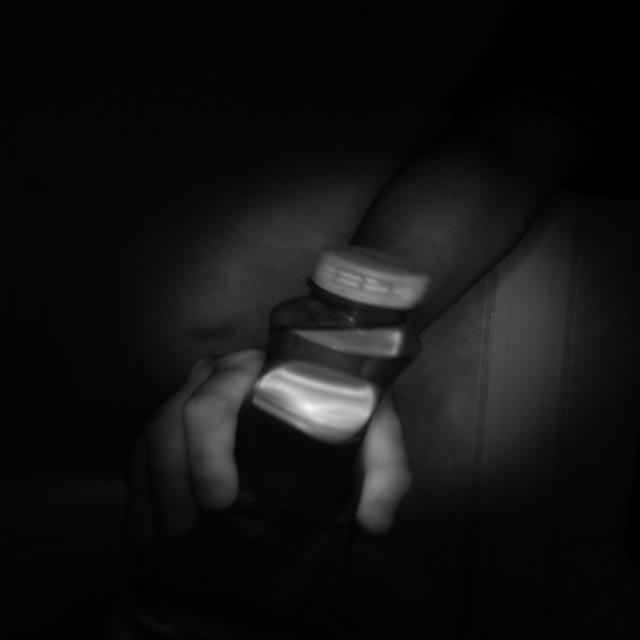Good: (307, 247, 435, 312)
